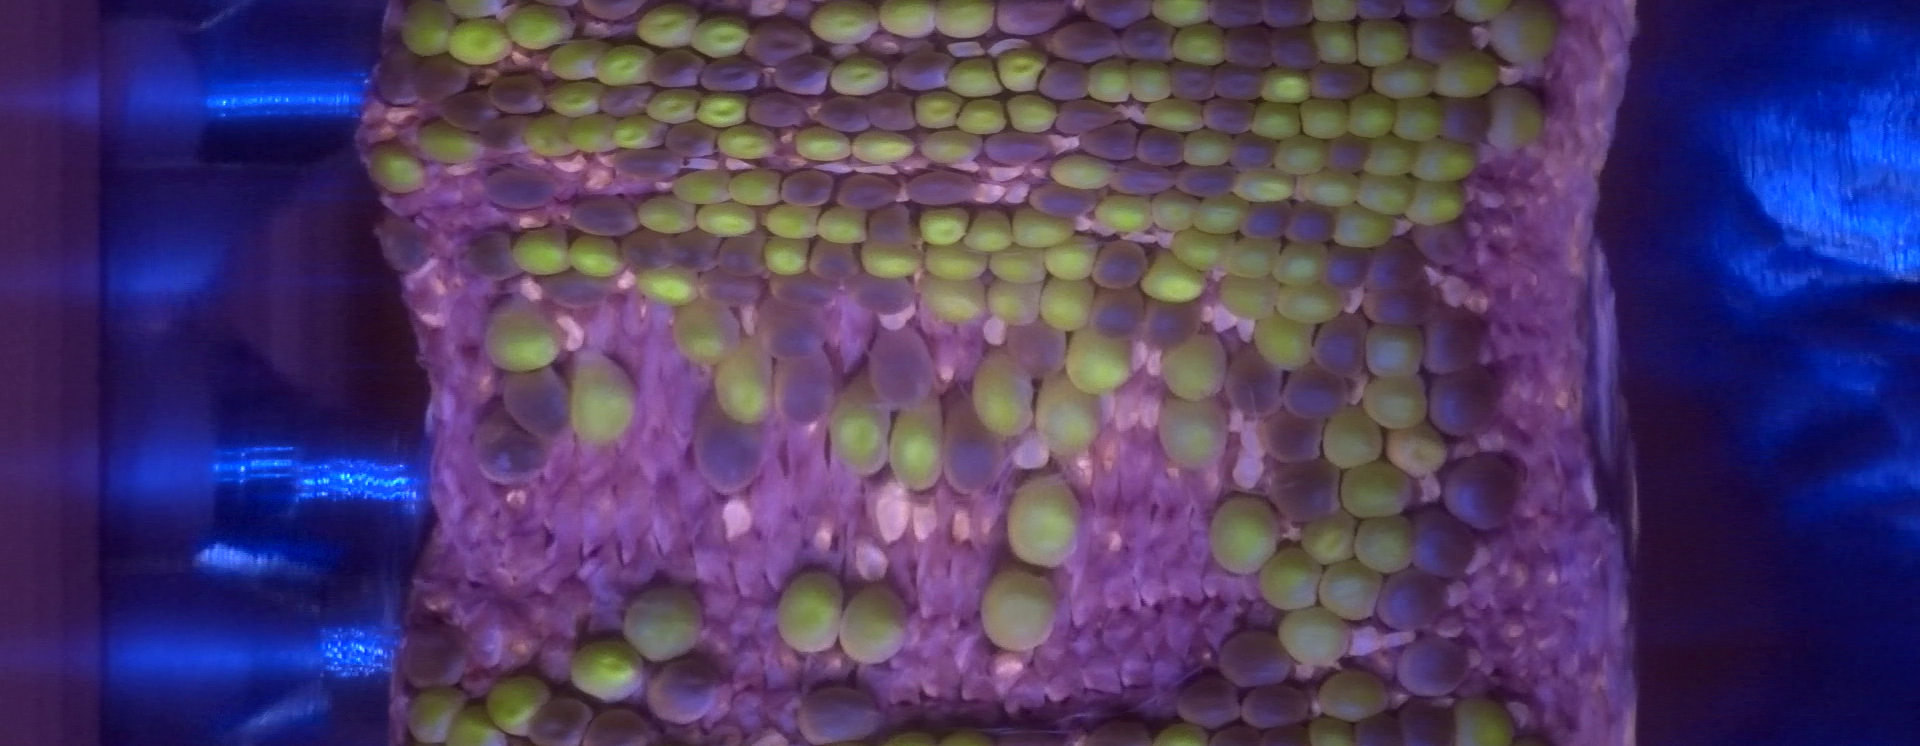fluorescent: (622, 586, 713, 663), (1011, 477, 1087, 567), (568, 348, 638, 445), (1035, 370, 1104, 459), (831, 383, 894, 481), (776, 568, 849, 653), (984, 570, 1058, 648), (568, 635, 645, 706), (1213, 492, 1278, 576), (487, 303, 558, 379), (713, 339, 773, 429), (890, 391, 942, 495), (844, 587, 909, 669), (1490, 1, 1567, 69), (1157, 394, 1227, 468), (1337, 456, 1419, 518), (671, 298, 743, 366), (1162, 333, 1236, 401), (1067, 330, 1136, 394), (1318, 559, 1389, 622), (978, 355, 1033, 435), (1273, 606, 1349, 664), (490, 661, 550, 733), (1322, 404, 1382, 474), (913, 271, 987, 326), (1262, 545, 1322, 612), (1299, 507, 1364, 568), (1357, 374, 1430, 428), (1316, 671, 1392, 723), (396, 1, 458, 64), (1367, 327, 1430, 388), (1354, 513, 1417, 575), (1251, 314, 1318, 371), (1428, 51, 1501, 102), (1138, 254, 1207, 306), (408, 684, 470, 742), (1213, 269, 1280, 325), (1038, 274, 1100, 333), (1493, 89, 1548, 154), (501, 2, 573, 51), (807, 1, 884, 45), (984, 272, 1044, 328), (1385, 428, 1447, 481), (632, 190, 700, 239), (1277, 281, 1348, 326), (415, 121, 487, 165), (1009, 201, 1074, 250), (364, 140, 422, 194), (1356, 16, 1417, 67), (1049, 148, 1120, 192), (1411, 137, 1485, 179), (830, 49, 891, 99), (640, 1, 703, 50), (1407, 181, 1469, 230), (516, 222, 571, 277), (1300, 163, 1365, 209), (1371, 59, 1442, 100), (451, 17, 512, 65), (1333, 207, 1400, 251), (1453, 693, 1509, 746), (858, 238, 926, 281), (1171, 21, 1229, 70), (629, 267, 700, 307), (1171, 230, 1233, 276), (1273, 236, 1330, 287), (544, 36, 607, 80), (447, 704, 514, 746), (947, 54, 1007, 99), (1125, 53, 1176, 107), (918, 130, 989, 168), (922, 243, 993, 281), (569, 233, 627, 279), (687, 15, 749, 58), (1223, 236, 1282, 282), (727, 167, 789, 209), (1093, 194, 1158, 234), (1178, 130, 1240, 171), (999, 45, 1049, 97), (1043, 232, 1096, 281), (542, 78, 606, 119), (1357, 137, 1420, 178), (876, 1, 936, 44), (915, 205, 975, 247), (1082, 55, 1133, 105), (1392, 97, 1444, 146), (796, 125, 856, 167), (595, 40, 651, 85), (527, 111, 579, 158), (939, 1, 998, 43), (1198, 191, 1251, 236), (1311, 20, 1360, 69), (1258, 67, 1315, 109), (1273, 132, 1327, 176), (849, 127, 915, 163), (1000, 92, 1057, 134), (700, 201, 762, 239), (613, 115, 672, 154), (1348, 92, 1397, 138), (1300, 97, 1349, 143), (965, 206, 1014, 252), (671, 167, 731, 205), (987, 247, 1047, 285), (1250, 99, 1300, 145), (1142, 100, 1211, 134), (649, 86, 707, 125), (1353, 176, 1420, 209), (958, 96, 1013, 135), (569, 113, 618, 157), (718, 125, 776, 162), (763, 235, 812, 279), (698, 92, 753, 130), (770, 207, 825, 245), (820, 205, 871, 246), (913, 92, 966, 131), (1149, 190, 1198, 232), (1229, 168, 1296, 198), (1149, 1, 1213, 29), (1296, 722, 1367, 746), (1451, 1, 1510, 24), (1311, 1, 1365, 26), (1163, 722, 1210, 746), (453, 1, 508, 21), (936, 729, 996, 746), (885, 730, 940, 746)
nonfluorescent: (694, 387, 767, 497), (398, 616, 474, 695), (866, 323, 932, 408), (1441, 458, 1520, 529), (940, 399, 1000, 491), (1424, 367, 1502, 434), (473, 412, 546, 481), (501, 367, 576, 435), (796, 687, 878, 744), (774, 345, 831, 423), (1267, 463, 1341, 523), (649, 661, 718, 725), (1408, 510, 1474, 573), (1419, 307, 1474, 383), (1374, 567, 1442, 627), (375, 208, 435, 277), (1391, 636, 1463, 692), (1140, 290, 1202, 352), (1221, 633, 1291, 687), (1314, 312, 1368, 379), (1229, 348, 1278, 420), (760, 303, 822, 360), (535, 267, 610, 312), (1007, 318, 1068, 372), (1365, 239, 1422, 296), (1046, 21, 1120, 64), (743, 16, 811, 62), (482, 168, 557, 209), (1286, 365, 1344, 416), (1171, 675, 1236, 722), (1360, 287, 1442, 323), (571, 195, 636, 240), (765, 267, 838, 307), (373, 51, 422, 110), (1438, 96, 1493, 145), (1411, 20, 1473, 62), (529, 701, 591, 744), (891, 49, 953, 92), (1262, 413, 1324, 456), (1025, 183, 1098, 218), (1240, 686, 1307, 725), (716, 224, 769, 273), (904, 169, 975, 205), (1090, 285, 1139, 337), (703, 265, 760, 307), (993, 2, 1067, 36), (814, 89, 869, 134), (1169, 160, 1236, 197), (1284, 198, 1333, 247), (582, 710, 654, 744), (414, 58, 467, 103), (773, 54, 831, 94), (469, 232, 518, 279), (1118, 18, 1177, 58), (864, 88, 915, 134), (1211, 62, 1262, 105), (1307, 65, 1367, 102), (1107, 162, 1176, 194), (1400, 699, 1453, 740), (1095, 243, 1142, 288), (489, 73, 547, 110), (1224, 24, 1273, 69), (746, 89, 801, 129), (836, 174, 895, 211), (858, 271, 911, 311), (612, 147, 684, 176), (702, 55, 759, 92), (1239, 195, 1284, 241), (1037, 61, 1089, 102), (809, 232, 853, 278), (1080, 125, 1138, 160), (1084, 715, 1150, 746), (1269, 24, 1311, 71), (1166, 59, 1213, 100), (984, 131, 1044, 163), (1057, 99, 1114, 132), (1325, 132, 1369, 175), (582, 1, 655, 27), (627, 229, 672, 271), (675, 228, 721, 268), (1200, 96, 1256, 129), (1325, 244, 1368, 287), (1139, 127, 1187, 165), (869, 202, 911, 245), (482, 113, 527, 153), (649, 47, 696, 85), (1078, 2, 1153, 24), (1229, 135, 1280, 168), (781, 170, 829, 205), (1349, 710, 1395, 746), (442, 93, 493, 124), (665, 126, 718, 154), (1260, 1, 1316, 27), (601, 85, 651, 111), (1209, 722, 1261, 746), (1207, 2, 1264, 24), (1258, 722, 1308, 746), (1404, 2, 1452, 18), (1356, 2, 1400, 20)
